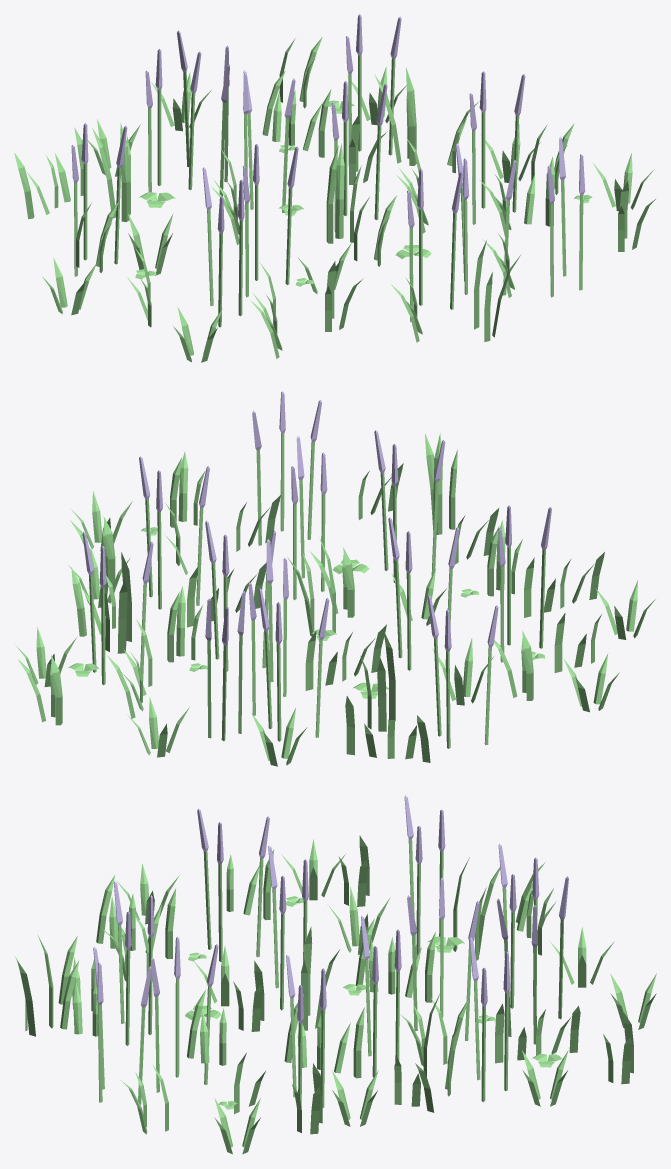
The model's file is Lavender.fbx.
3 renders of one model, top to bottom at view 1: azimuth 30°, elevation 25°; view 2: azimuth 150°, elevation 25°; view 3: azimuth 270°, elevation 25°, orthographic. The views are drawn at different scales.
Parts seen in each view (by area): view 1: Lavender; view 2: Lavender; view 3: Lavender.
Part boxes in pixels (left/top/right/bottom): Lavender: left=14, top=14, right=655, bottom=362; Lavender: left=14, top=391, right=655, bottom=766; Lavender: left=15, top=795, right=656, bottom=1154.
Size of the model in its own units: 5.89 by 1.5 by 5.66.
